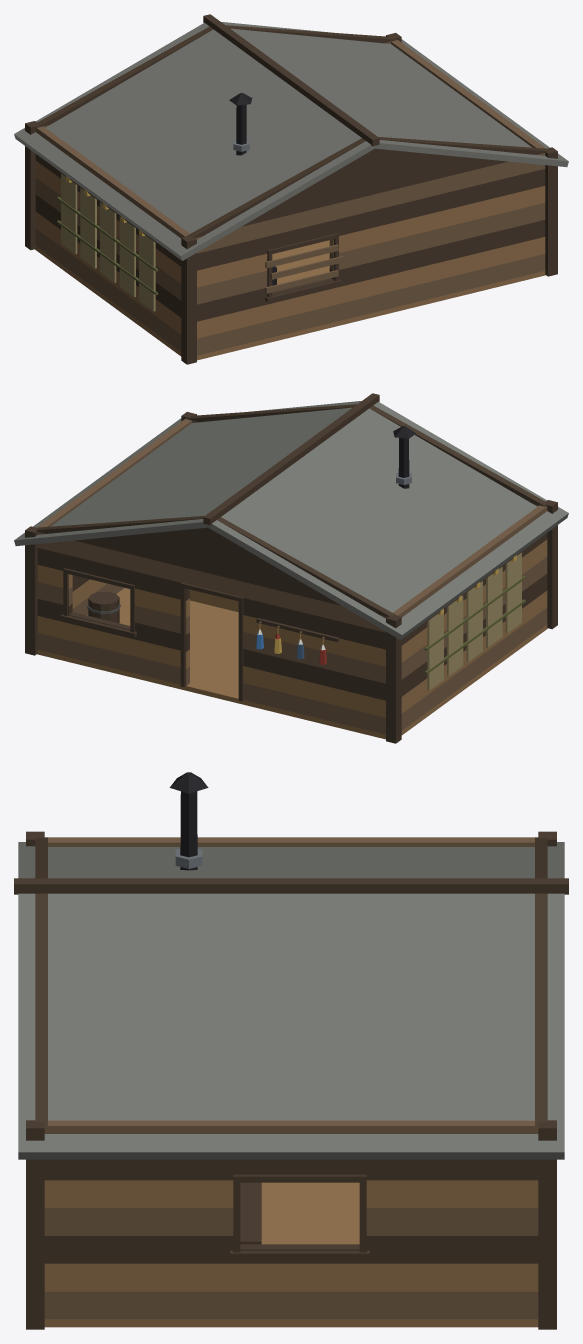
File: fish_shack.glb
The picture shows the model from 3 angles, top to bottom: view 1: azimuth 30°, elevation 25°; view 2: azimuth 150°, elevation 25°; view 3: azimuth 270°, elevation 25°; orthographic projection. The views are drawn at different scales.
Parts seen in each view (by area): view 1: fish_shack; view 2: fish_shack; view 3: fish_shack.
Part boxes in pixels (left/top/right/bottom): fish_shack: left=14, top=14, right=568, bottom=364; fish_shack: left=14, top=393, right=568, bottom=743; fish_shack: left=14, top=772, right=568, bottom=1329.
Size of what is drawn, in the model's own units: 8.6 by 4.45 by 6.5.
2 materials, 2 textured.
